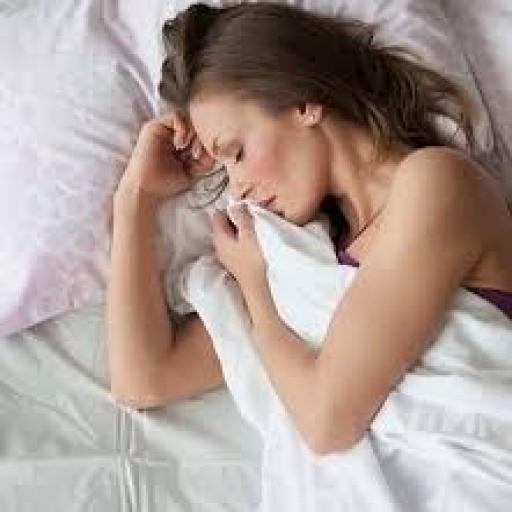sleeping: (102, 0, 510, 510)
